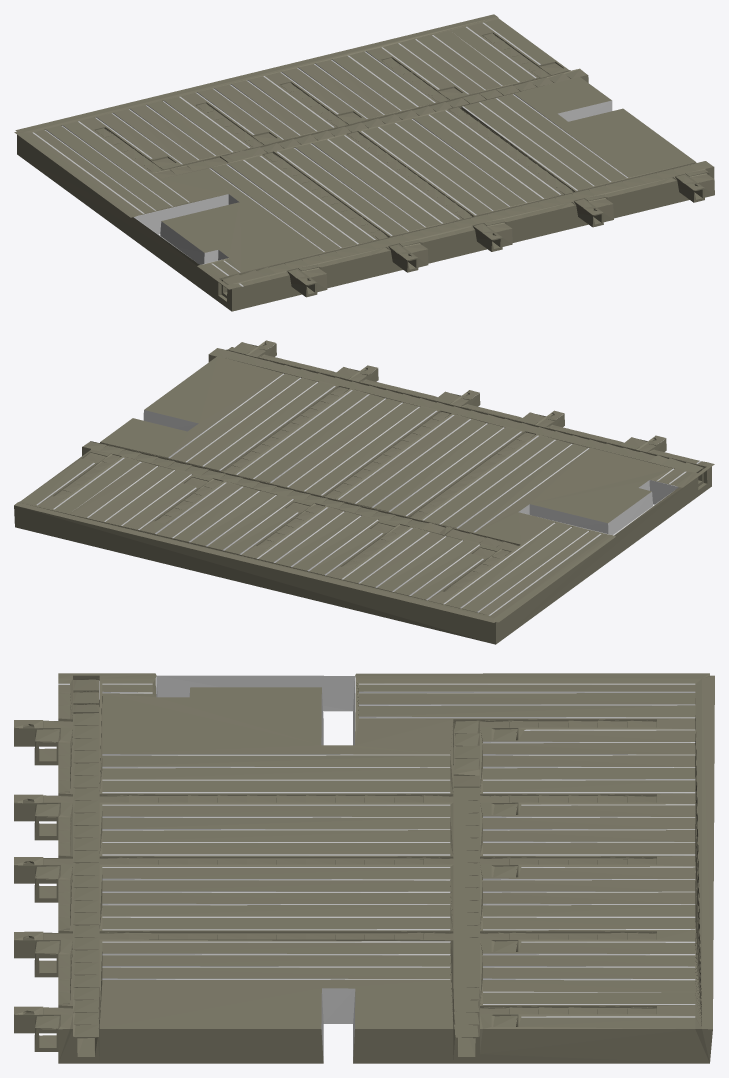
File: spannfeld.dae
3 renders of one model, top to bottom at view 1: azimuth 30°, elevation 25°; view 2: azimuth 150°, elevation 25°; view 3: azimuth 270°, elevation 25°, orthographic. The views are drawn at different scales.
Parts seen in each view (by area): view 1: Spannfeld; view 2: Spannfeld; view 3: Spannfeld.
Part boxes in pixels (box(x1,y1,x2,y2)): Spannfeld: box(14, 14, 714, 311); Spannfeld: box(14, 340, 714, 644); Spannfeld: box(14, 673, 714, 1063).
Bounding box in the file's own units: 14.55 × 11.89 × 0.65.
